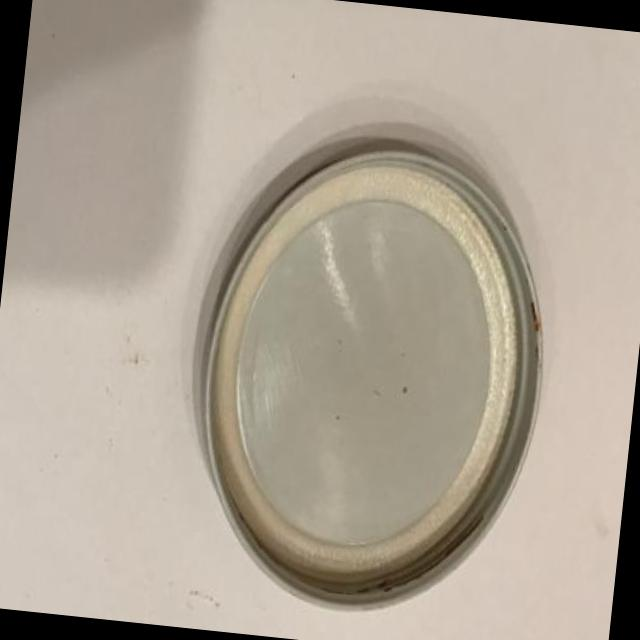kim_loai: (203, 150, 541, 607)
